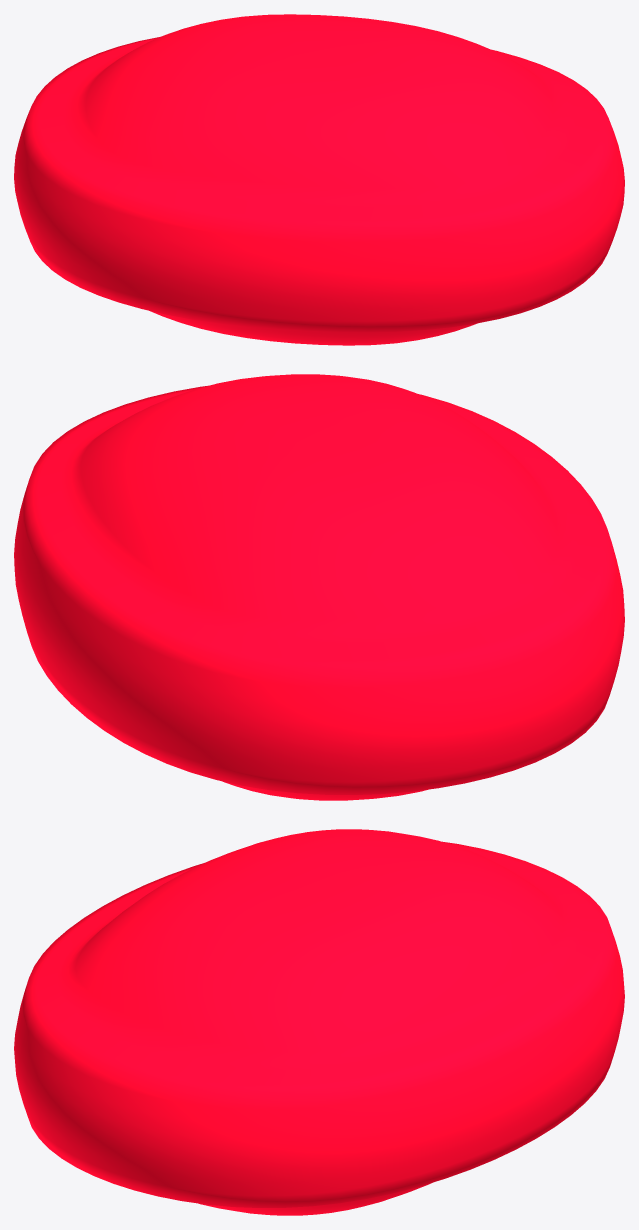
File: candy.fbx
3 views of the same model, one above another, from view 1: azimuth 30°, elevation 25°; view 2: azimuth 150°, elevation 25°; view 3: azimuth 270°, elevation 25° (orthographic). The views are drawn at different scales.
Visible parts, largest first — view 1: CANDY WRAP.002; view 2: CANDY WRAP.002; view 3: CANDY WRAP.002.
Part boxes in pixels (x1,y1,x2,y2): CANDY WRAP.002: (14, 14, 624, 345); CANDY WRAP.002: (14, 374, 624, 800); CANDY WRAP.002: (14, 829, 624, 1215).
Bounding box in the file's own units: 9.96 × 4.85 × 9.62.
